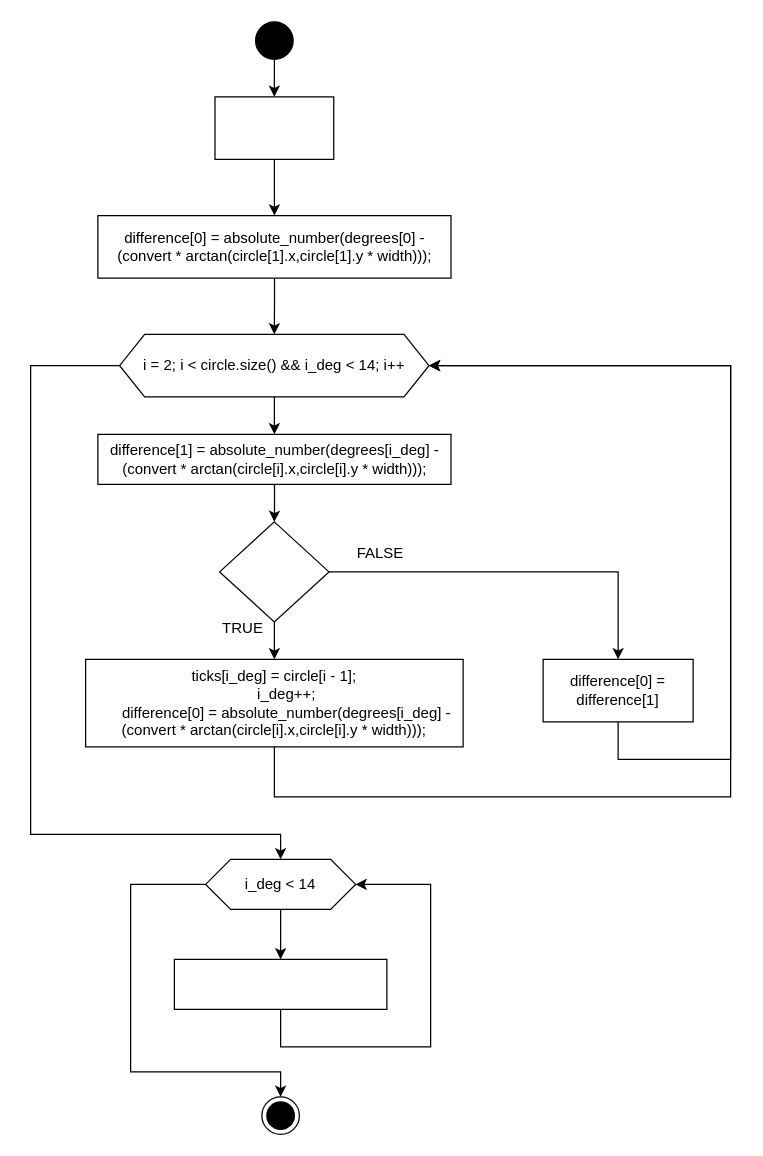
Image size: 763x1156. Some labels were removed from this diagram. The shapes that lost their labels are listed below. From the top down, each one's centre as x and y in pixels, then its label:
(x=274, y=127): different[2] degrees[14] i_deg = 0
(x=273, y=571): difference[0] < difference[1]
(x=280, y=983): ticks[i_deg] = ticks[i_deg - 1]; i_deg++;
